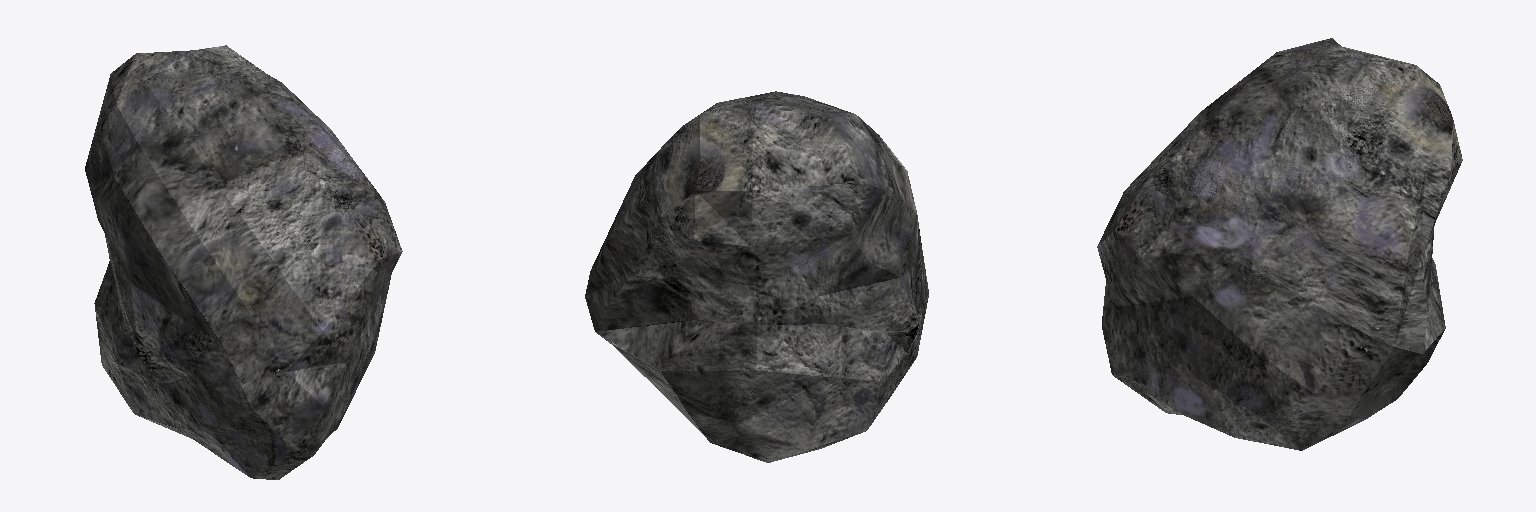
3 views of the same model, side by side, from view 1: azimuth 30°, elevation 25°; view 2: azimuth 150°, elevation 25°; view 3: azimuth 270°, elevation 25° (orthographic).
Parts seen in each view (by area): view 1: Mesh; view 2: Mesh; view 3: Mesh.
Boxes of the visible parts, x1,y1,x2,y2 form: Mesh: [85, 45, 402, 479]; Mesh: [585, 91, 928, 462]; Mesh: [1097, 38, 1462, 450].
Bounding box in the file's own units: 3.15 × 4.16 × 3.73.
Materials: 1 (1 with a texture image).